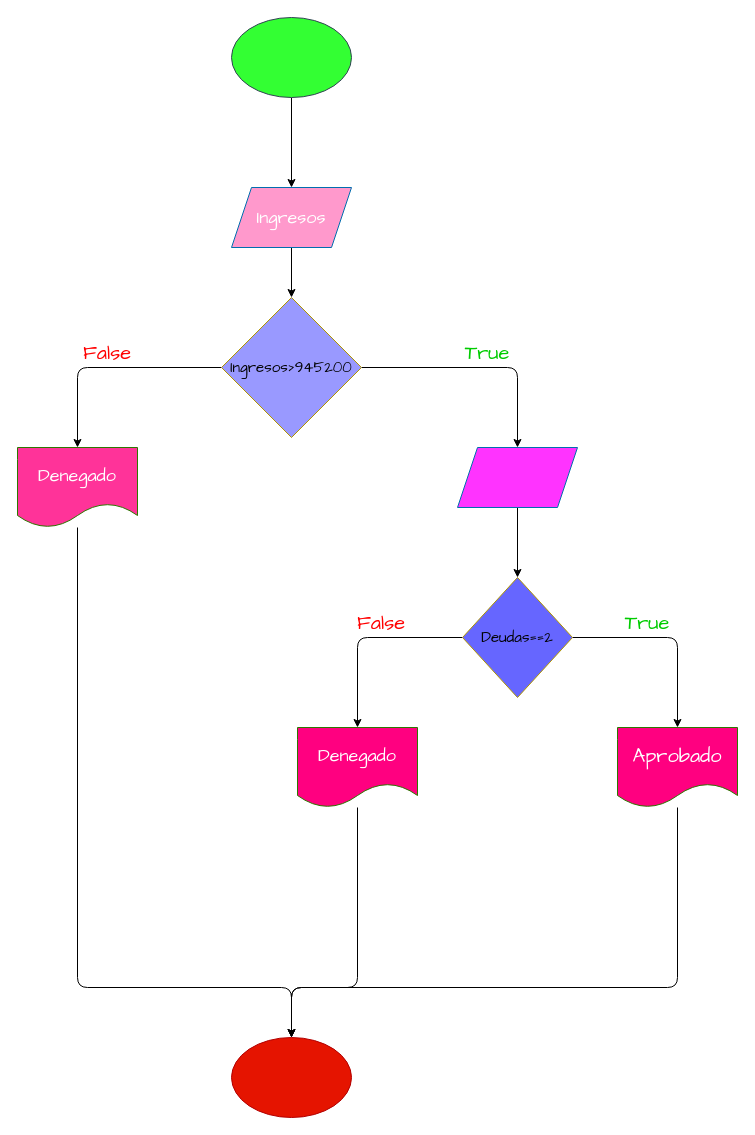
This 755x1135 diagram has some shape labels left out. The centre of each missing label's shape, as x and y in pixels:
"Fin" goes at (x=291, y=1077).
"Inicio" goes at (x=291, y=57).
"Otras deudas" goes at (x=517, y=477).
